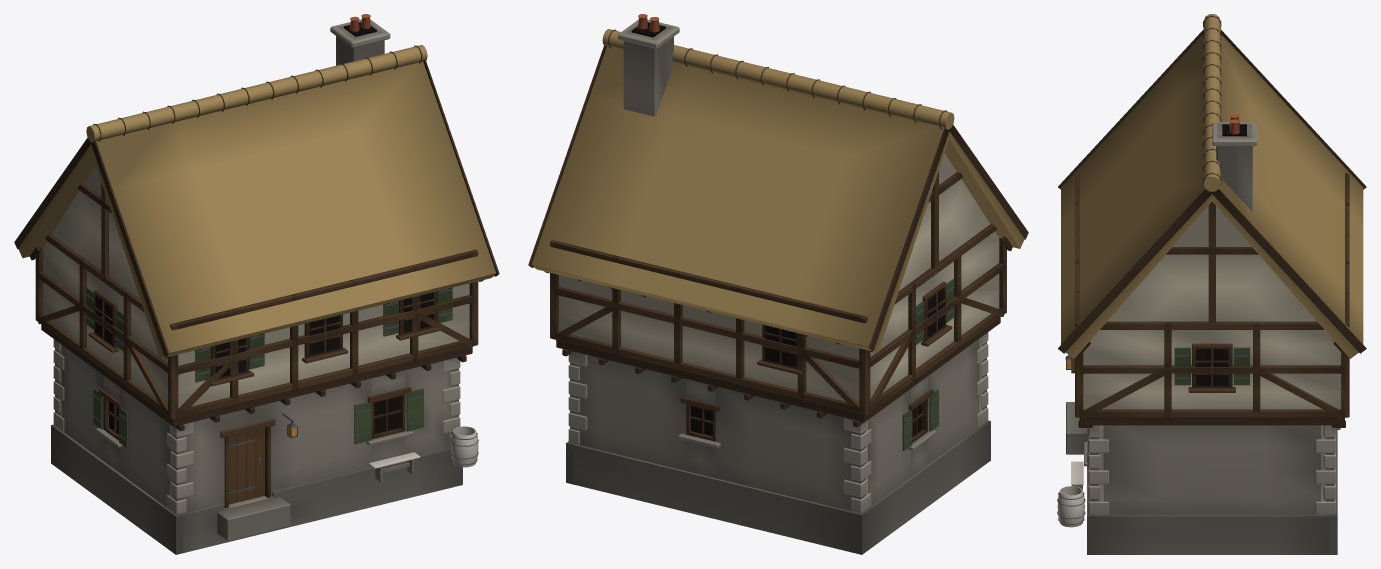
Rendered from house_b.glb.
The picture shows the model from 3 angles, left to right: view 1: azimuth 30°, elevation 25°; view 2: azimuth 150°, elevation 25°; view 3: azimuth 270°, elevation 25°; orthographic projection. The views are drawn at different scales.
Visible parts, largest first — view 1: ext, door0; view 2: ext; view 3: ext, int.
Part boxes in pixels (left/top/right/bottom): ext: left=14, top=14, right=499, bottom=554; door0: left=228, top=428, right=264, bottom=504; ext: left=528, top=14, right=1028, bottom=554; ext: left=1057, top=14, right=1366, bottom=554; int: left=1098, top=425, right=1325, bottom=515.
Size of the model in its own units: 9.44 by 11.4 by 7.57.
